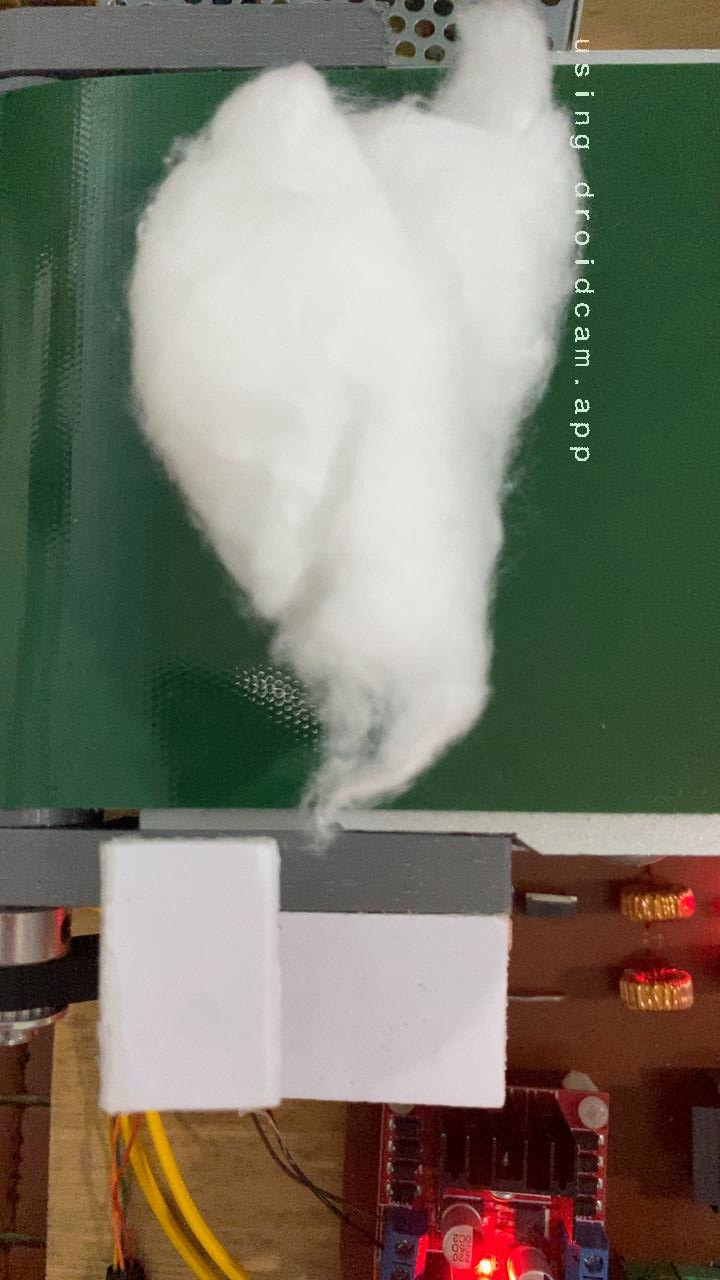cotton: (116, 68, 597, 809)
